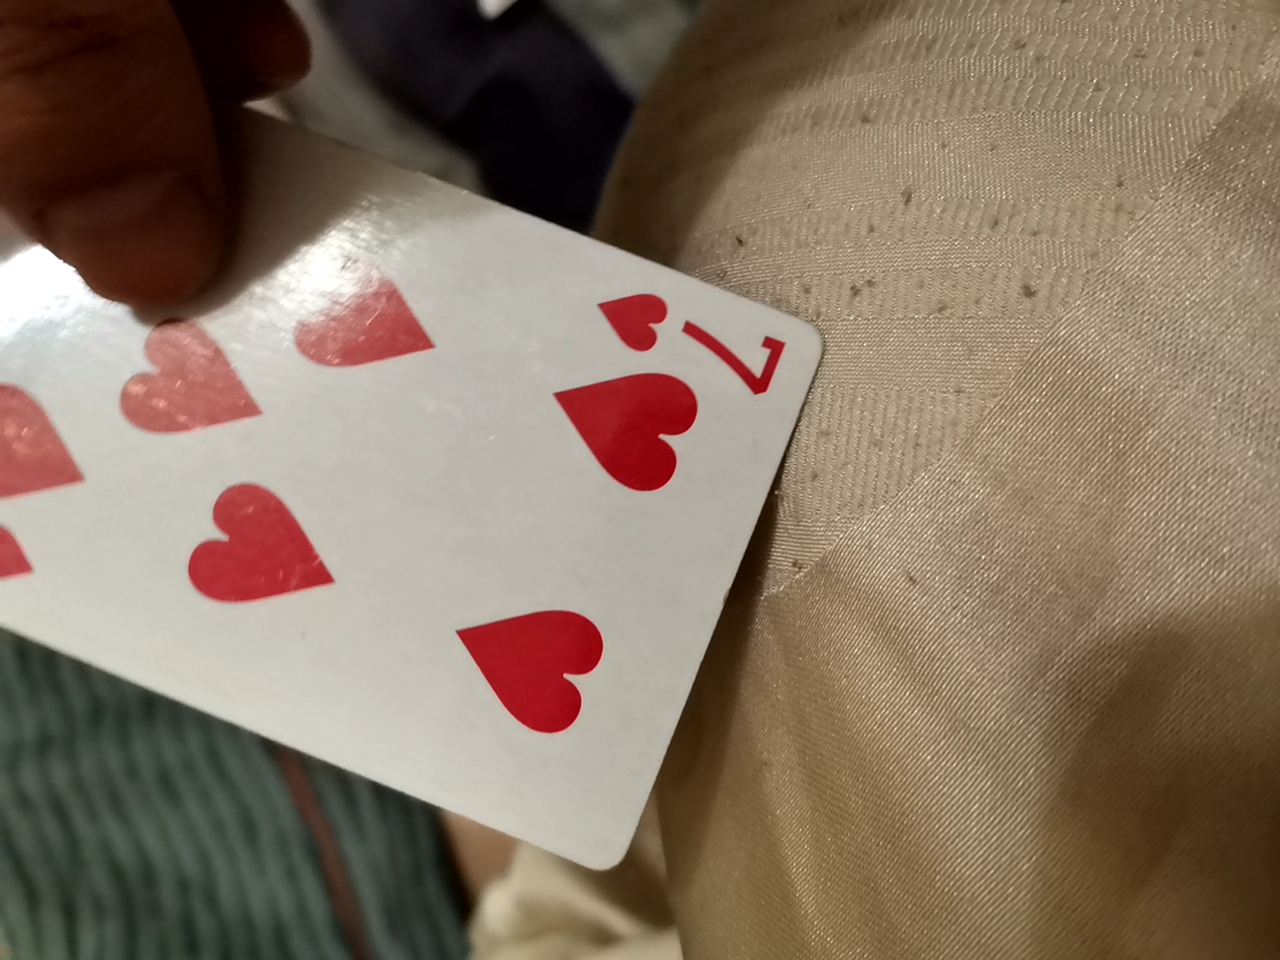hx 7: (4, 197, 865, 886)
